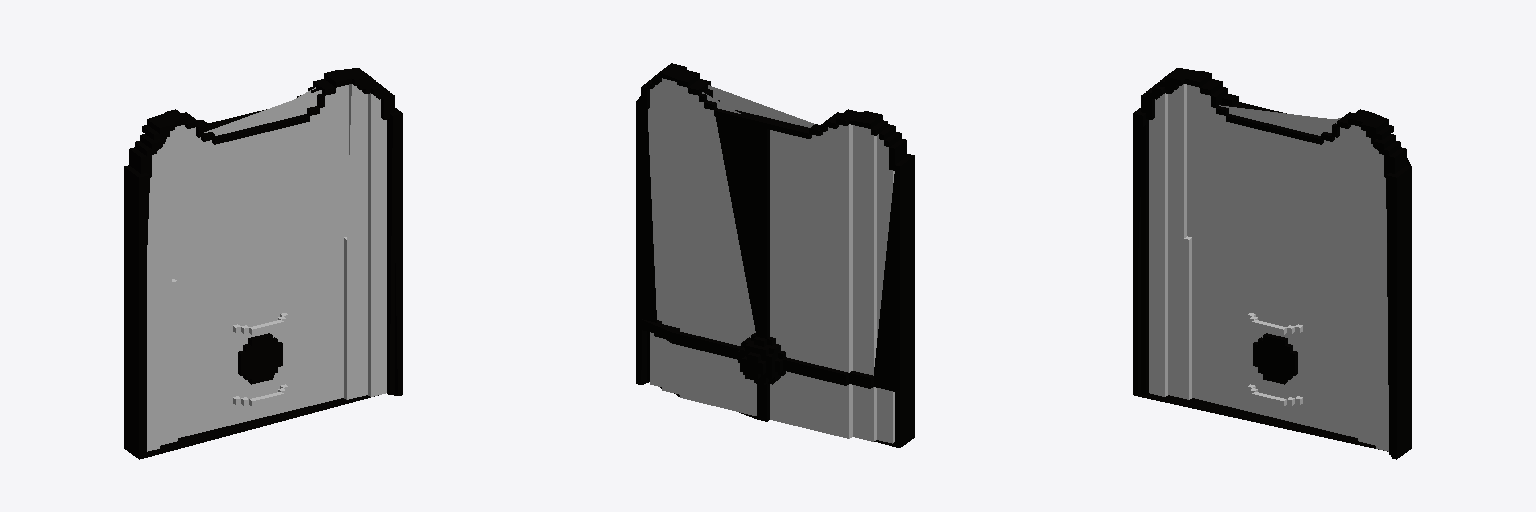
File: Shield_Tower_Wooden_BrownDiamonds_Half.obj
3 views of the same model, side by side, from view 1: azimuth 30°, elevation 25°; view 2: azimuth 150°, elevation 25°; view 3: azimuth 330°, elevation 25° (orthographic).
Parts seen in each view (by area): view 1: Shield_Tower; view 2: Shield_Tower; view 3: Shield_Tower.
Boxes of the visible parts, <box> form: Shield_Tower: <box>124,68,402,459</box>; Shield_Tower: <box>636,63,914,447</box>; Shield_Tower: <box>1133,68,1411,459</box>.
Size of the model in its own units: 0.5 by 0.58 by 0.1.